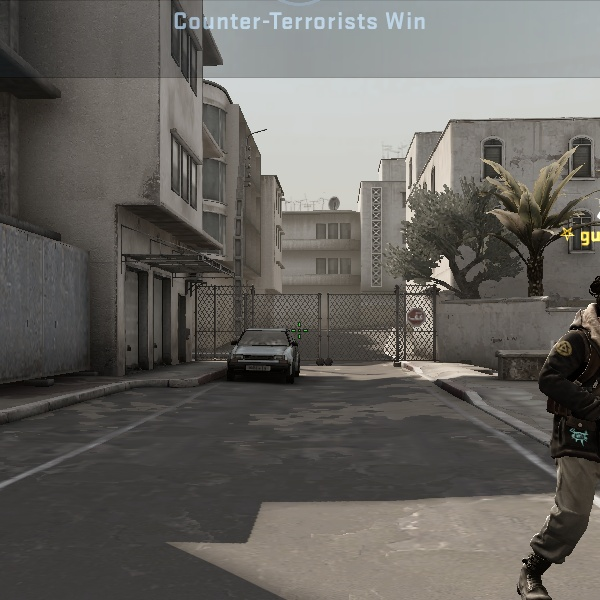t_body: (495, 254, 595, 600)
